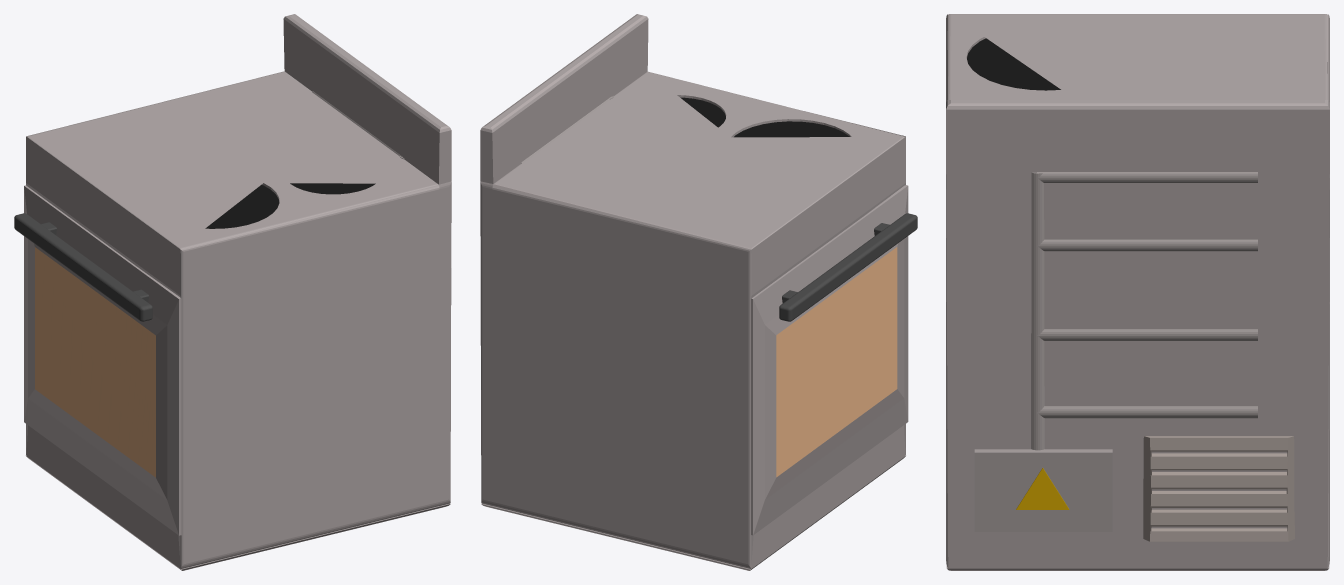
Rendered from ocak.fbx.
3 renders of one model, left to right at view 1: azimuth 30°, elevation 25°; view 2: azimuth 150°, elevation 25°; view 3: azimuth 270°, elevation 25°, orthographic. The views are drawn at different scales.
Parts seen in each view (by area): view 1: Cube.011, Cube.012; view 2: Cube.011, Cube.012; view 3: Cube.011, Cube.016, Cube.021, Cylinder.021, Cylinder.026, Cylinder.029, Cylinder.027, Cylinder.028, Cylinder.030.
Part boxes in pixels (bbox=[...]): Cube.011: bbox=[26, 14, 451, 570]; Cube.012: bbox=[14, 185, 181, 535]; Cube.011: bbox=[480, 14, 905, 570]; Cube.012: bbox=[751, 185, 917, 535]; Cube.011: bbox=[946, 14, 1329, 570]; Cube.016: bbox=[1143, 436, 1294, 541]; Cube.021: bbox=[974, 449, 1112, 531]; Cylinder.021: bbox=[1031, 172, 1044, 450]; Cylinder.026: bbox=[1037, 406, 1257, 418]; Cylinder.029: bbox=[1037, 239, 1257, 251]; Cylinder.027: bbox=[1037, 329, 1257, 340]; Cylinder.028: bbox=[1037, 172, 1257, 182]; Cylinder.030: bbox=[1016, 468, 1069, 509].
Bounding box in the file's own units: 4.16 × 5.01 × 3.72.
